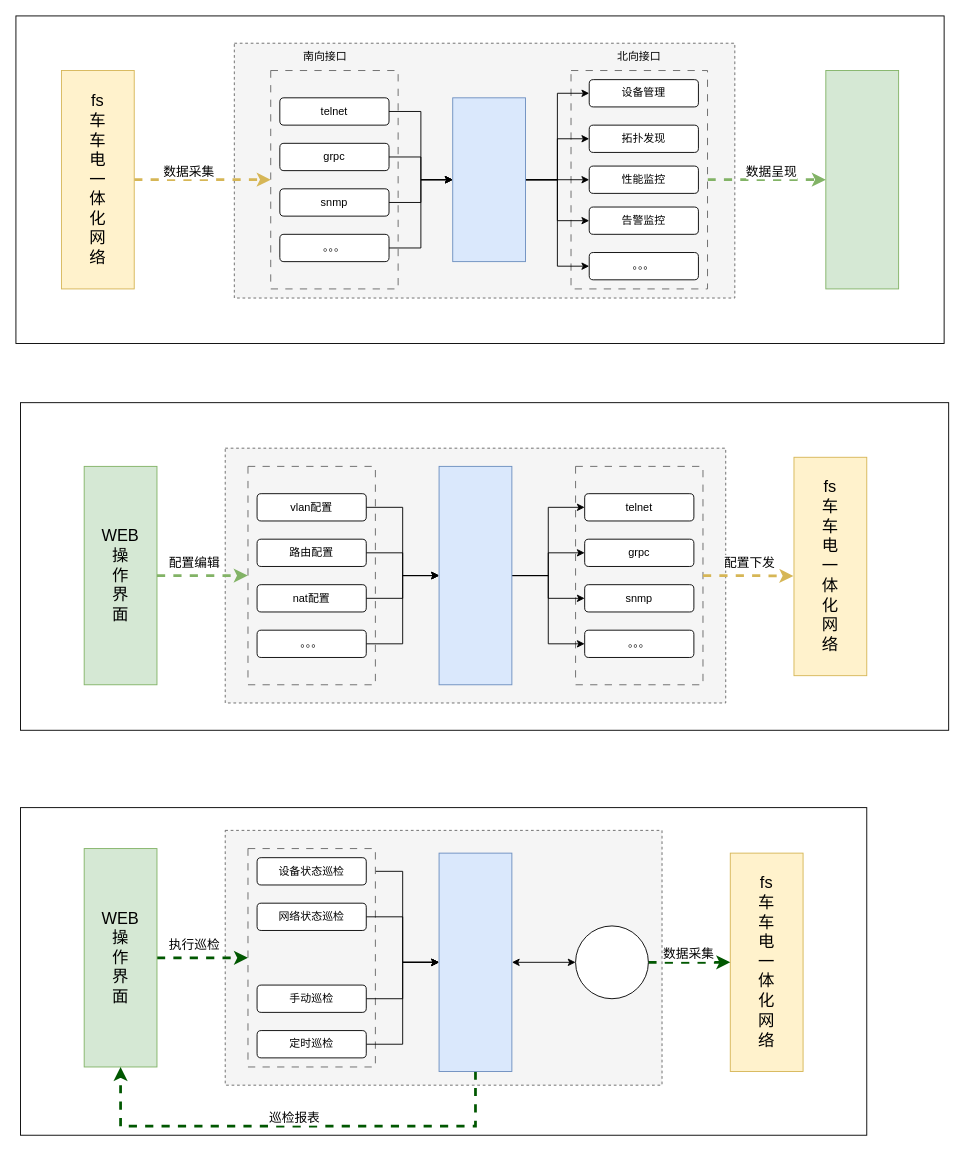
Some shapes in this 965 by 1151 pixel diagram are drawn without their labels. Here are the shapes that lost their labels. From the top down, the box of each, then its label:
(452, 97, 526, 262): 网 络 管 理 模 块
(825, 70, 899, 289): WEB 数 据 可 视 化
(438, 465, 512, 685): 网 络 自 动 化 开 通 模 块
(438, 852, 512, 1072): 网 络 自 动 化 检 测 模 块
(575, 925, 648, 999): 巡检引擎
